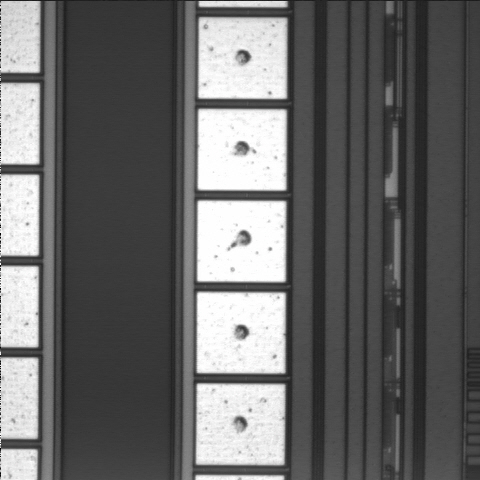pad: (198, 109, 287, 191), (197, 200, 286, 282), (198, 18, 287, 99), (197, 292, 286, 373), (196, 384, 285, 465)
